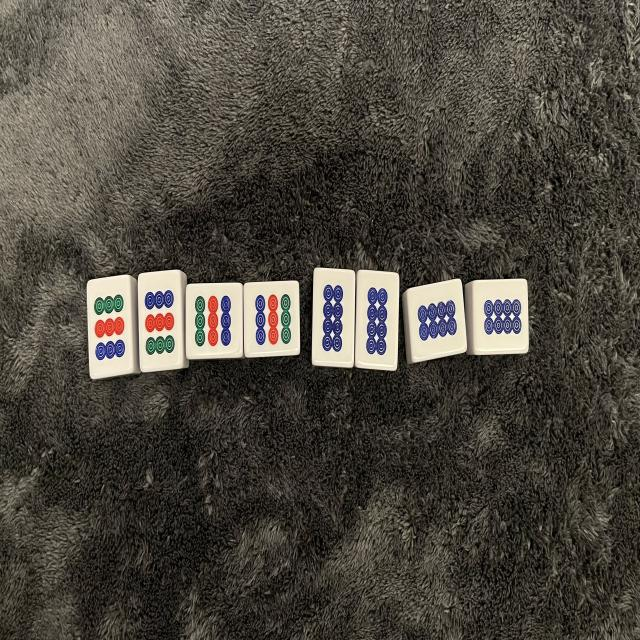8D: (408, 280, 469, 362), (354, 271, 398, 370), (472, 281, 528, 353), (315, 268, 356, 366)
9D: (88, 275, 136, 379), (137, 271, 183, 373), (244, 281, 300, 357), (187, 284, 243, 359)
